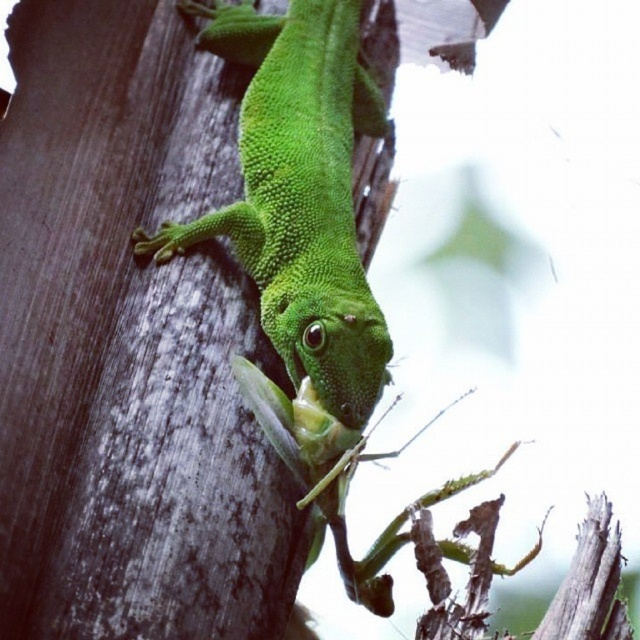Lizard: (133, 24, 407, 497)
